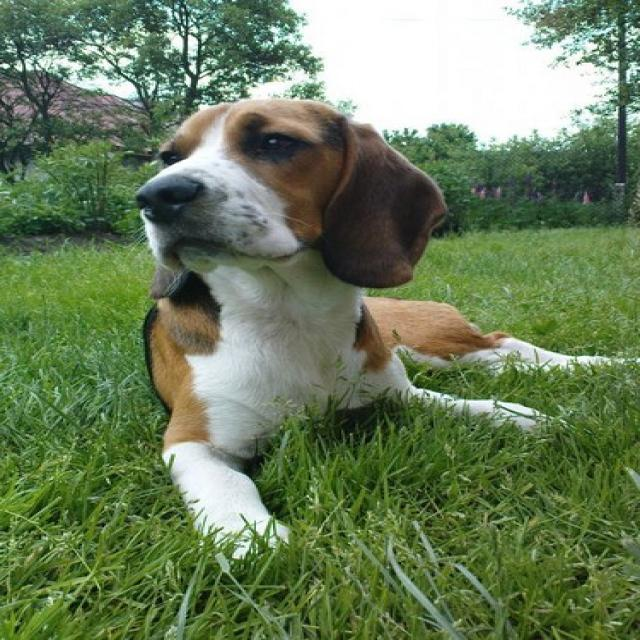dog-beagle: (131, 92, 618, 553)
